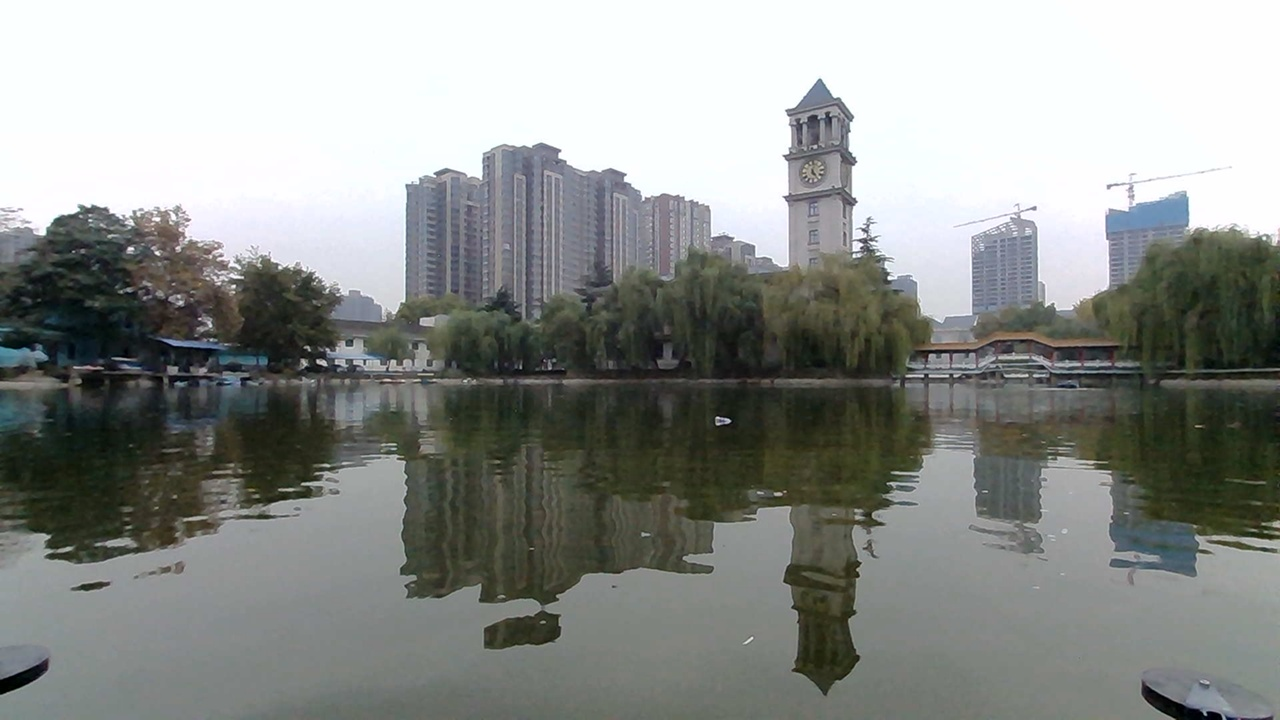bottle: (709, 402, 748, 432)
